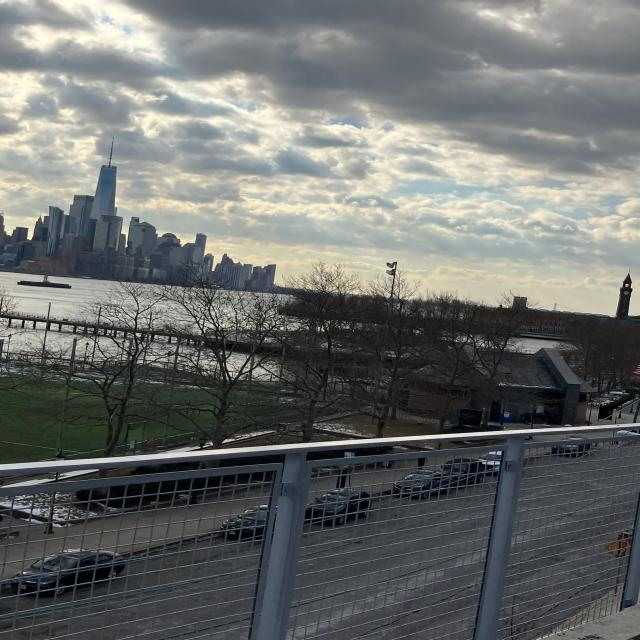WTC: (92, 134, 120, 228)
